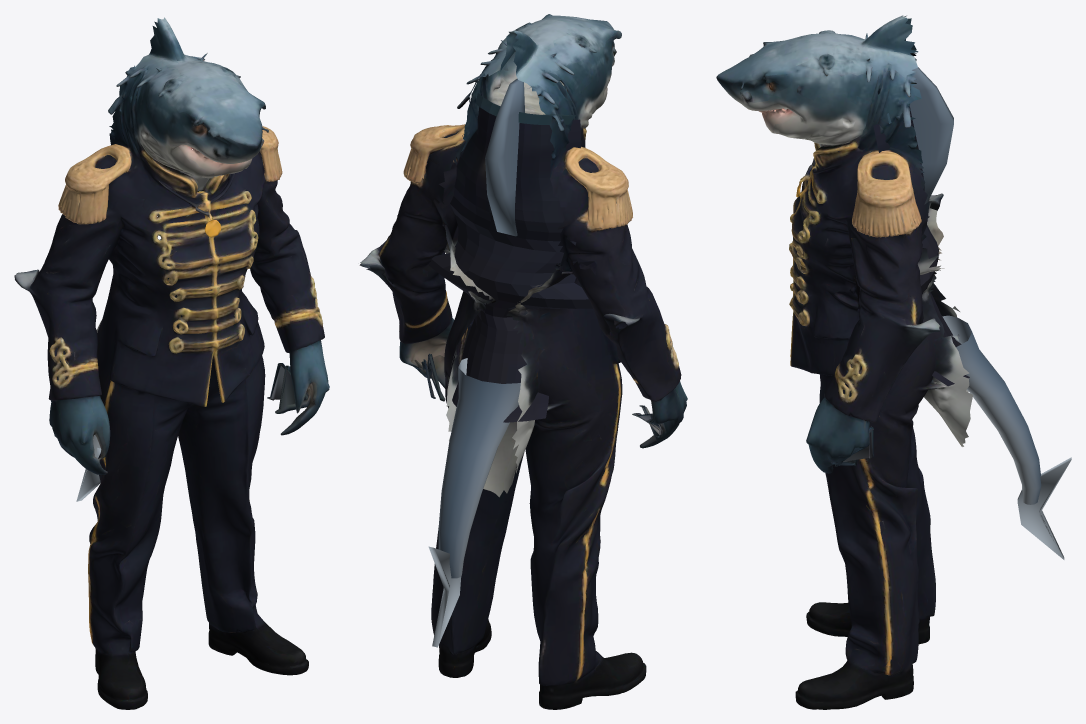
The model's file is guard-gen-female.glb.
3 views of the same model, side by side, from view 1: azimuth 30°, elevation 25°; view 2: azimuth 150°, elevation 25°; view 3: azimuth 270°, elevation 25° (orthographic). The views are drawn at different scales.
Parts seen in each view (by area): view 1: world, tail_model; view 2: world, jacket_back_v4, tail_model, dorsal_fin_model, skull_cap_v4; view 3: world, tail_model, dorsal_fin_model, jacket_back_v4.
Part boxes in pixels (x1,y1,x2,y2): world: (14,17,329,709); tail_model: (76,435,101,501); world: (359,14,687,709); jacket_back_v4: (429,107,594,422); tail_model: (428,358,520,647); dorsal_fin_model: (485,78,524,236); skull_cap_v4: (476,93,575,124); world: (716,15,973,709); tail_model: (942,315,1071,559); dorsal_fin_model: (910,67,953,204); jacket_back_v4: (873,106,969,386).
Bounding box in the file's own units: 0.4348 × 0.9907 × 0.4927.
Materials: 3 (1 with a texture image).
